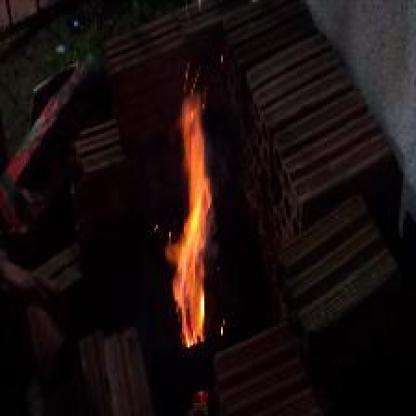fire: (165, 97, 221, 367)
